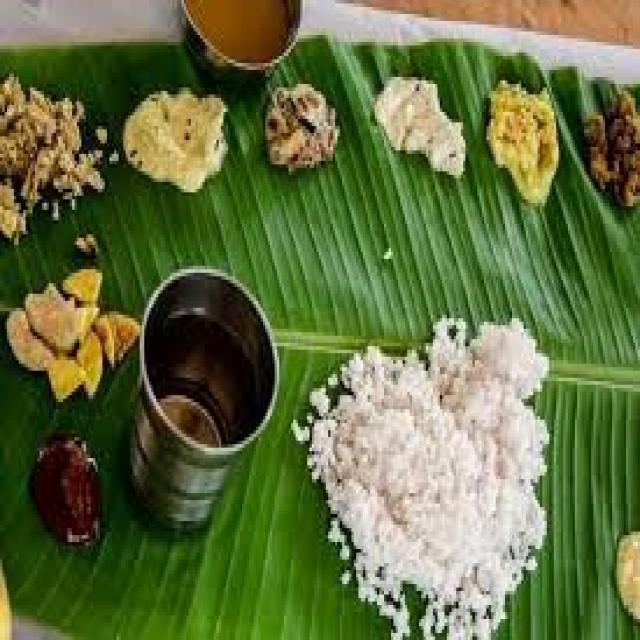pickle: (26, 438, 106, 556), (267, 85, 341, 172)
rice: (311, 309, 550, 623), (2, 79, 103, 235)
sambar-rasam: (136, 260, 280, 456), (178, 0, 307, 70)
sweet: (123, 82, 234, 199)
